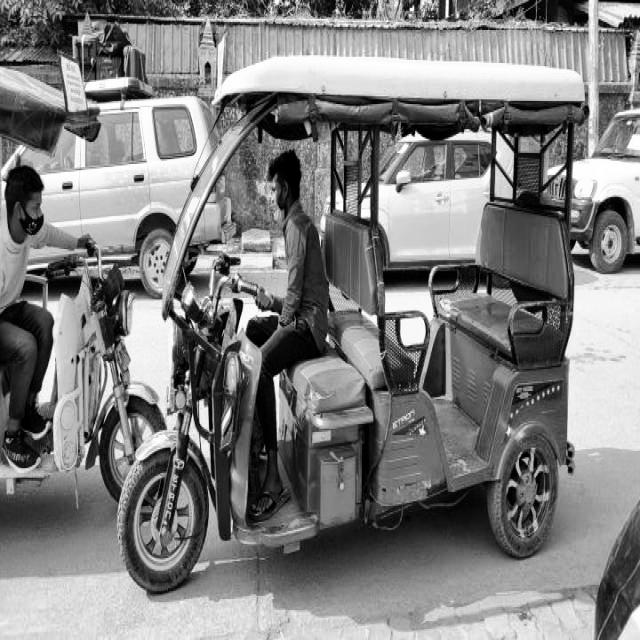Toto: (123, 49, 587, 583), (0, 50, 176, 510)
